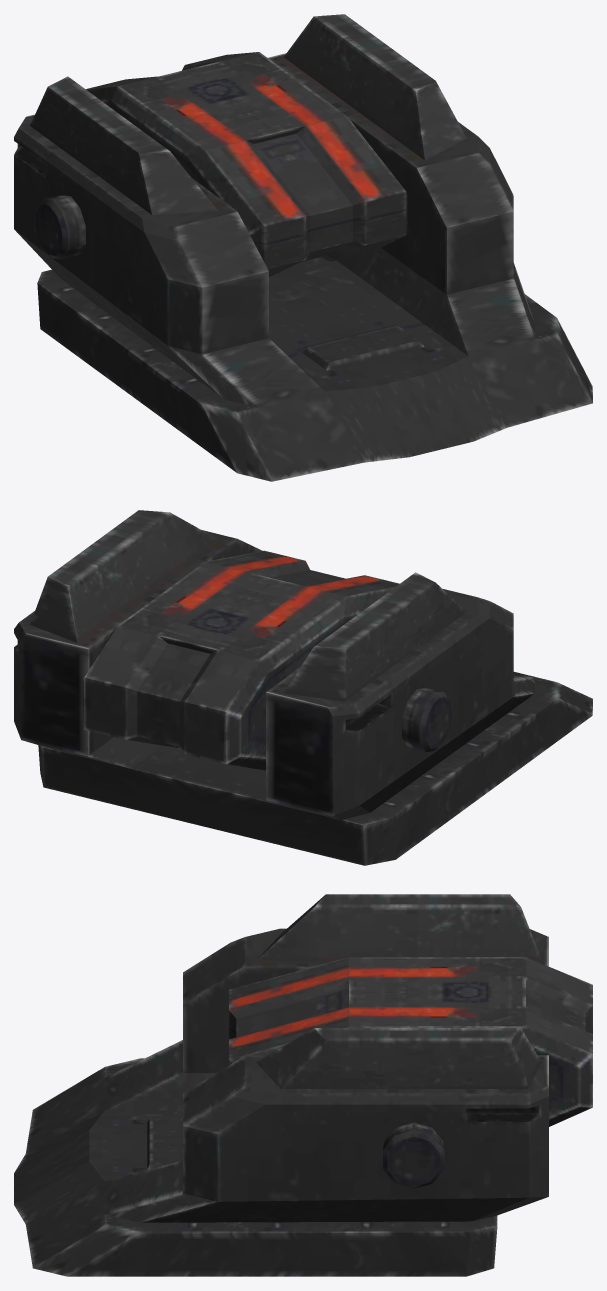
File: tower3.fbx
3 views of the same model, one above another, from view 1: azimuth 30°, elevation 25°; view 2: azimuth 150°, elevation 25°; view 3: azimuth 270°, elevation 25° (orthographic).
Visible parts, largest first — view 1: tower_one_slot_LOD0; view 2: tower_one_slot_LOD0; view 3: tower_one_slot_LOD0.
Part boxes in pixels (x1=…): tower_one_slot_LOD0: x1=14, y1=14, x2=592, y2=481; tower_one_slot_LOD0: x1=14, y1=510, x2=592, y2=865; tower_one_slot_LOD0: x1=14, y1=894, x2=592, y2=1276.
Size of what is drawn, in the model's own units: 50.19 by 28.4 by 63.86.
